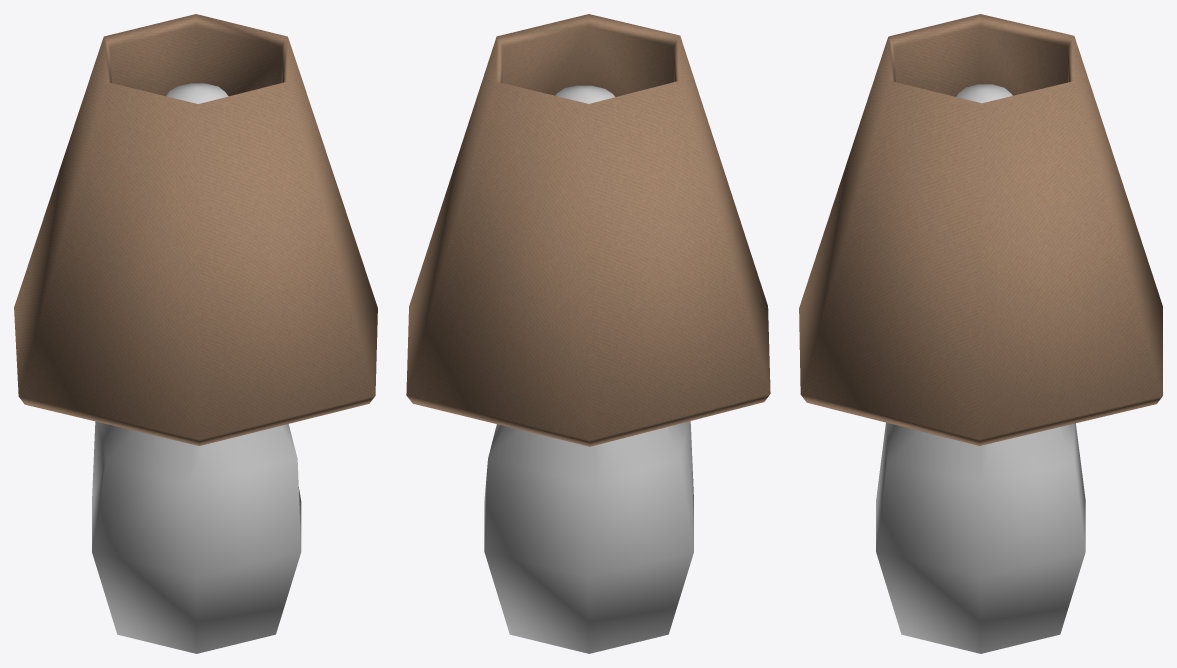
Rendered from Small_Lamp_H.FBX.
The picture shows the model from 3 angles, left to right: view 1: azimuth 30°, elevation 25°; view 2: azimuth 150°, elevation 25°; view 3: azimuth 270°, elevation 25°; orthographic projection.
Parts seen in each view (by area): view 1: Kid's Lamp; view 2: Kid's Lamp; view 3: Kid's Lamp.
Part boxes in pixels (left/top/right/bottom): Kid's Lamp: left=14, top=14, right=377, bottom=653; Kid's Lamp: left=406, top=14, right=770, bottom=653; Kid's Lamp: left=799, top=14, right=1162, bottom=653.
Bounding box in the file's own units: 68.11 × 100 × 59.49.
